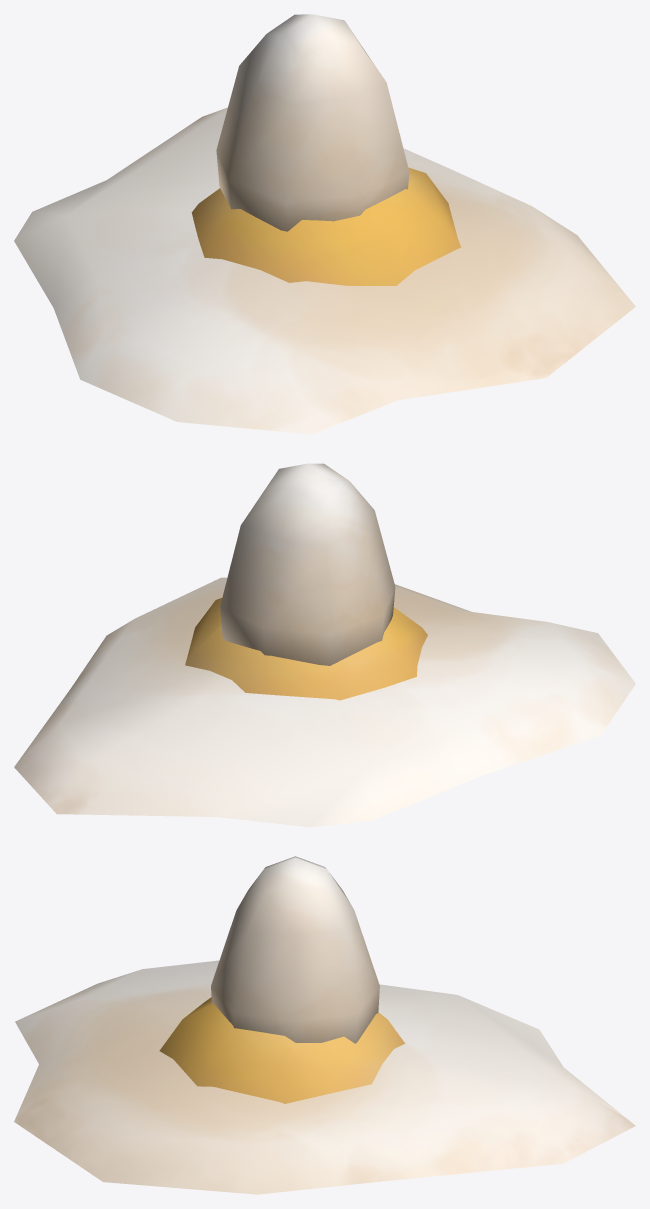
The model's file is Eggs_CMillman.fbx.
3 views of the same model, one above another, from view 1: azimuth 30°, elevation 25°; view 2: azimuth 150°, elevation 25°; view 3: azimuth 270°, elevation 25° (orthographic). The views are drawn at different scales.
Visible parts, largest first — view 1: FriedEgg1, Egg; view 2: FriedEgg1, Egg; view 3: FriedEgg1, Egg.
Part boxes in pixels (x1=…): FriedEgg1: x1=14, y1=107, x2=635, y2=434; Egg: x1=216, y1=14, x2=409, y2=231; FriedEgg1: x1=14, y1=577, x2=635, y2=827; Egg: x1=220, y1=463, x2=395, y2=665; FriedEgg1: x1=14, y1=960, x2=635, y2=1194; Egg: x1=211, y1=856, x2=379, y2=1043.
Bounding box in the file's own units: 1.51 × 0.7306 × 1.77.
Materials: 1 (1 with a texture image).
